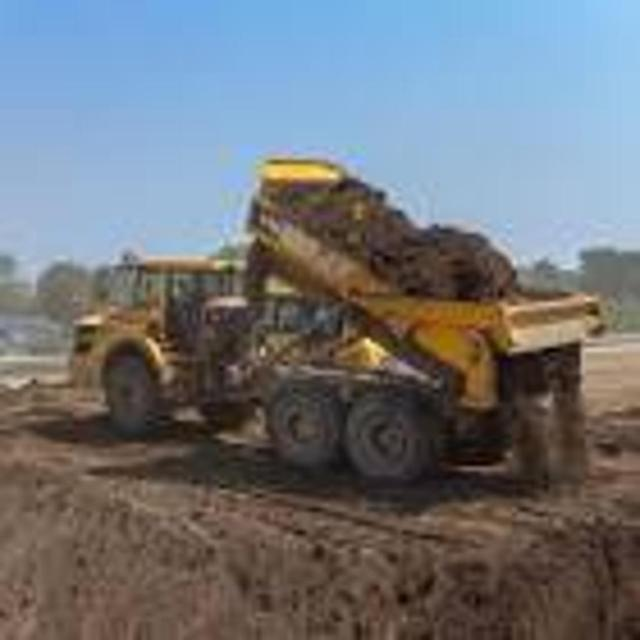dump_truck: (70, 152, 609, 493)
